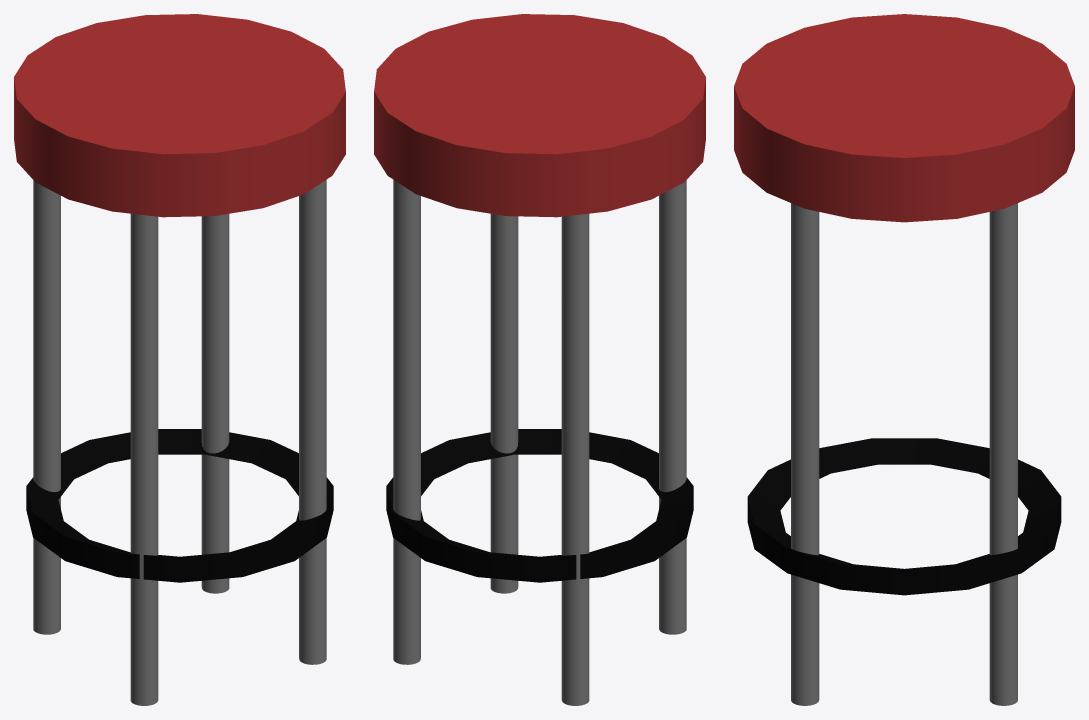
Rendered from BarChair.fbx.
3 views of the same model, side by side, from view 1: azimuth 30°, elevation 25°; view 2: azimuth 150°, elevation 25°; view 3: azimuth 270°, elevation 25° (orthographic). The views are drawn at different scales.
Visible parts, largest first — view 1: Seat, Legringthing, pCylinder3, pCylinder2, pCylinder4, Legs; view 2: Seat, Legringthing, pCylinder4, Legs, pCylinder3, pCylinder2; view 3: Seat, Legringthing, Legs, pCylinder2.
Part boxes in pixels (box(x1,y1,x2,y2)): Seat: box(14, 14, 345, 217); Legringthing: box(26, 429, 333, 582); pCylinder3: box(130, 213, 158, 705); pCylinder2: box(299, 180, 326, 664); pCylinder4: box(33, 180, 60, 634); Legs: box(201, 214, 229, 593); Seat: box(374, 14, 705, 217); Legringthing: box(386, 429, 693, 582); pCylinder4: box(561, 213, 589, 705); Legs: box(393, 180, 420, 664); pCylinder3: box(659, 180, 686, 634); pCylinder2: box(490, 214, 518, 593); Seat: box(734, 14, 1074, 222); Legringthing: box(747, 438, 1061, 595); Legs: box(989, 203, 1017, 705); pCylinder2: box(791, 203, 819, 705).
Bounding box in the file's own units: 2.4 × 4.44 × 2.4.
